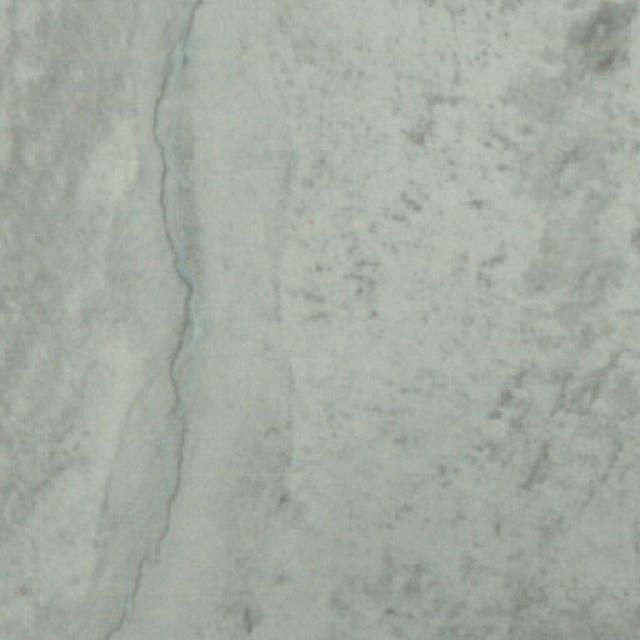Radial: (78, 0, 255, 640)
